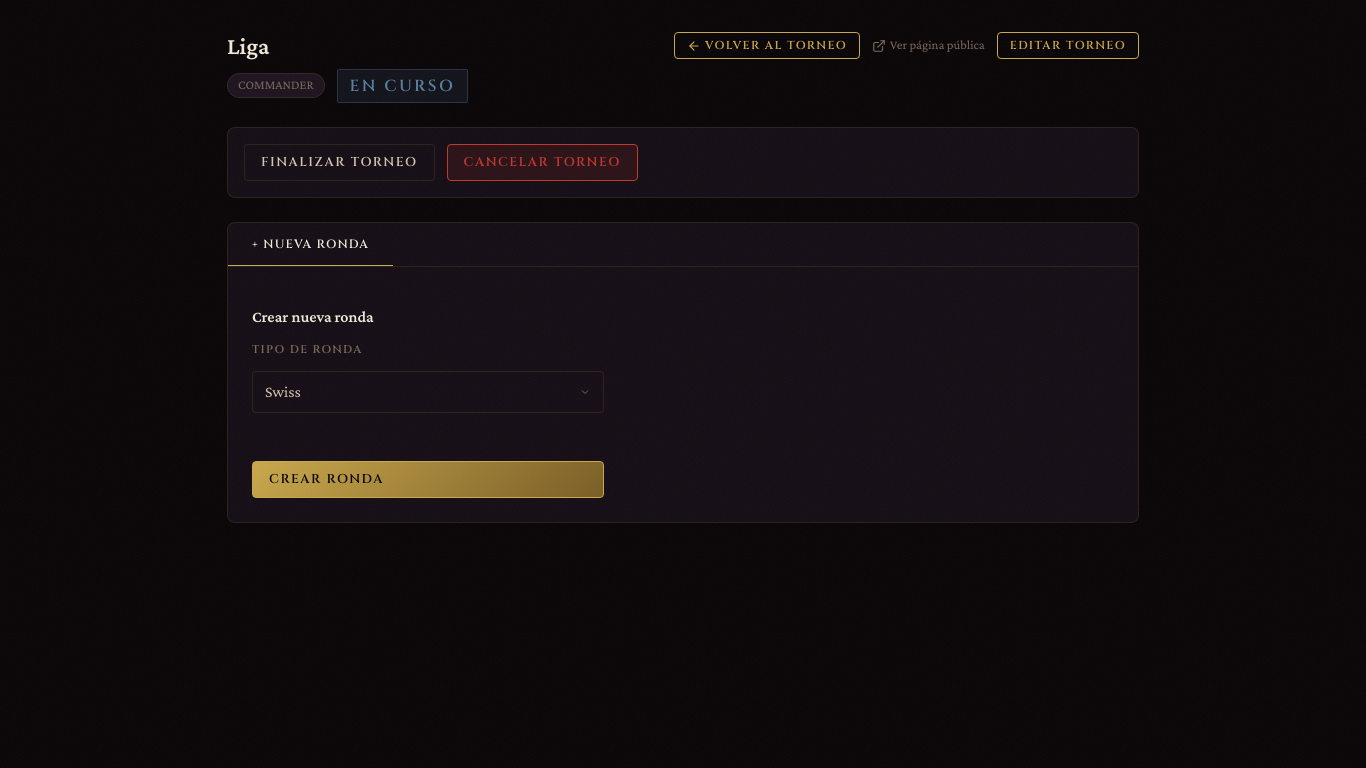
Test case: GestionTorneo › crea una ronda nueva
The width and height of the screenshot is (1366, 768).
Click the button "Crear ronda".
click(326, 479)  # box [252,461,604,498]
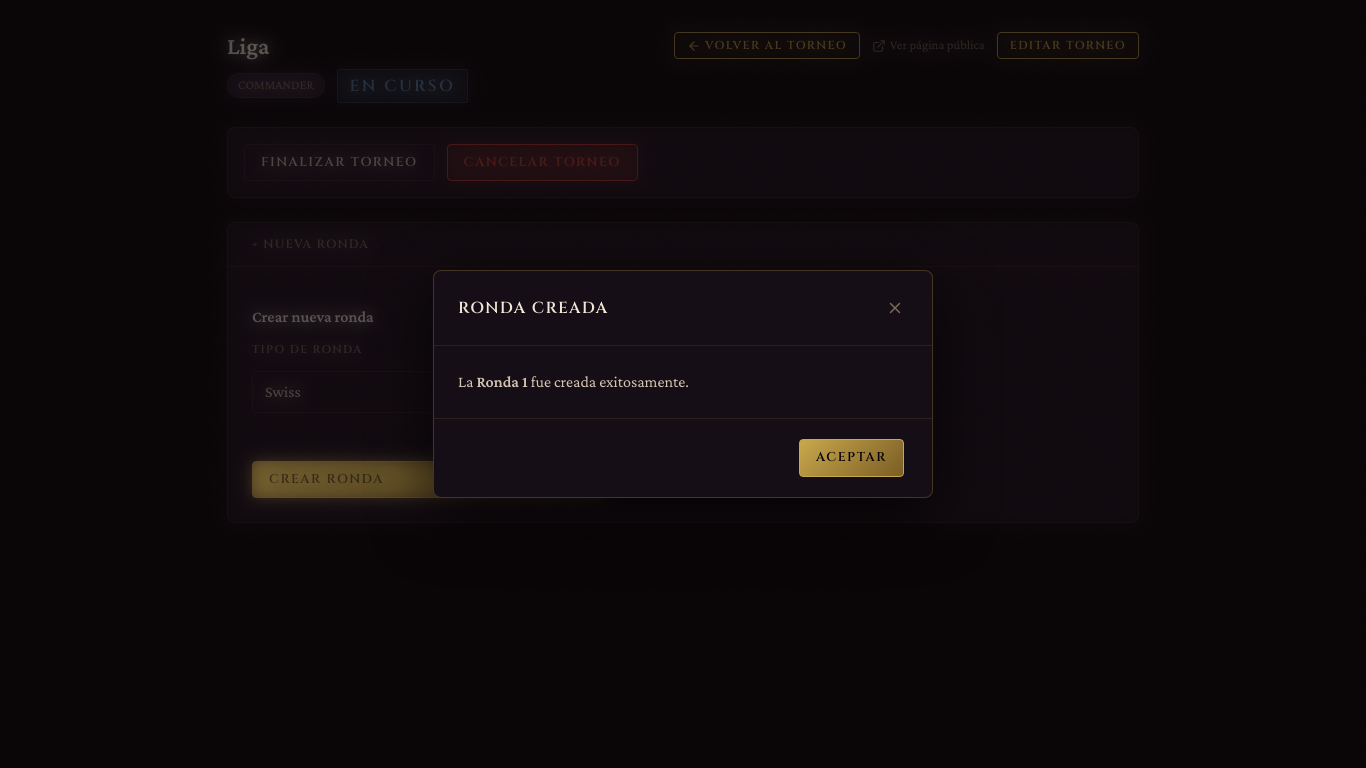
Expected: the text "Ronda creada" is shown, [458,296,608,320]
